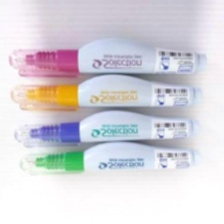correction_fluid: (5, 35, 210, 81), (7, 70, 204, 114), (12, 107, 202, 150), (17, 138, 203, 178)
